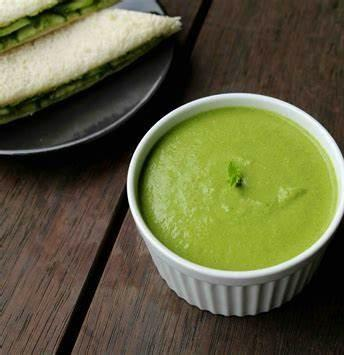GreenChutney: (140, 109, 335, 271)
